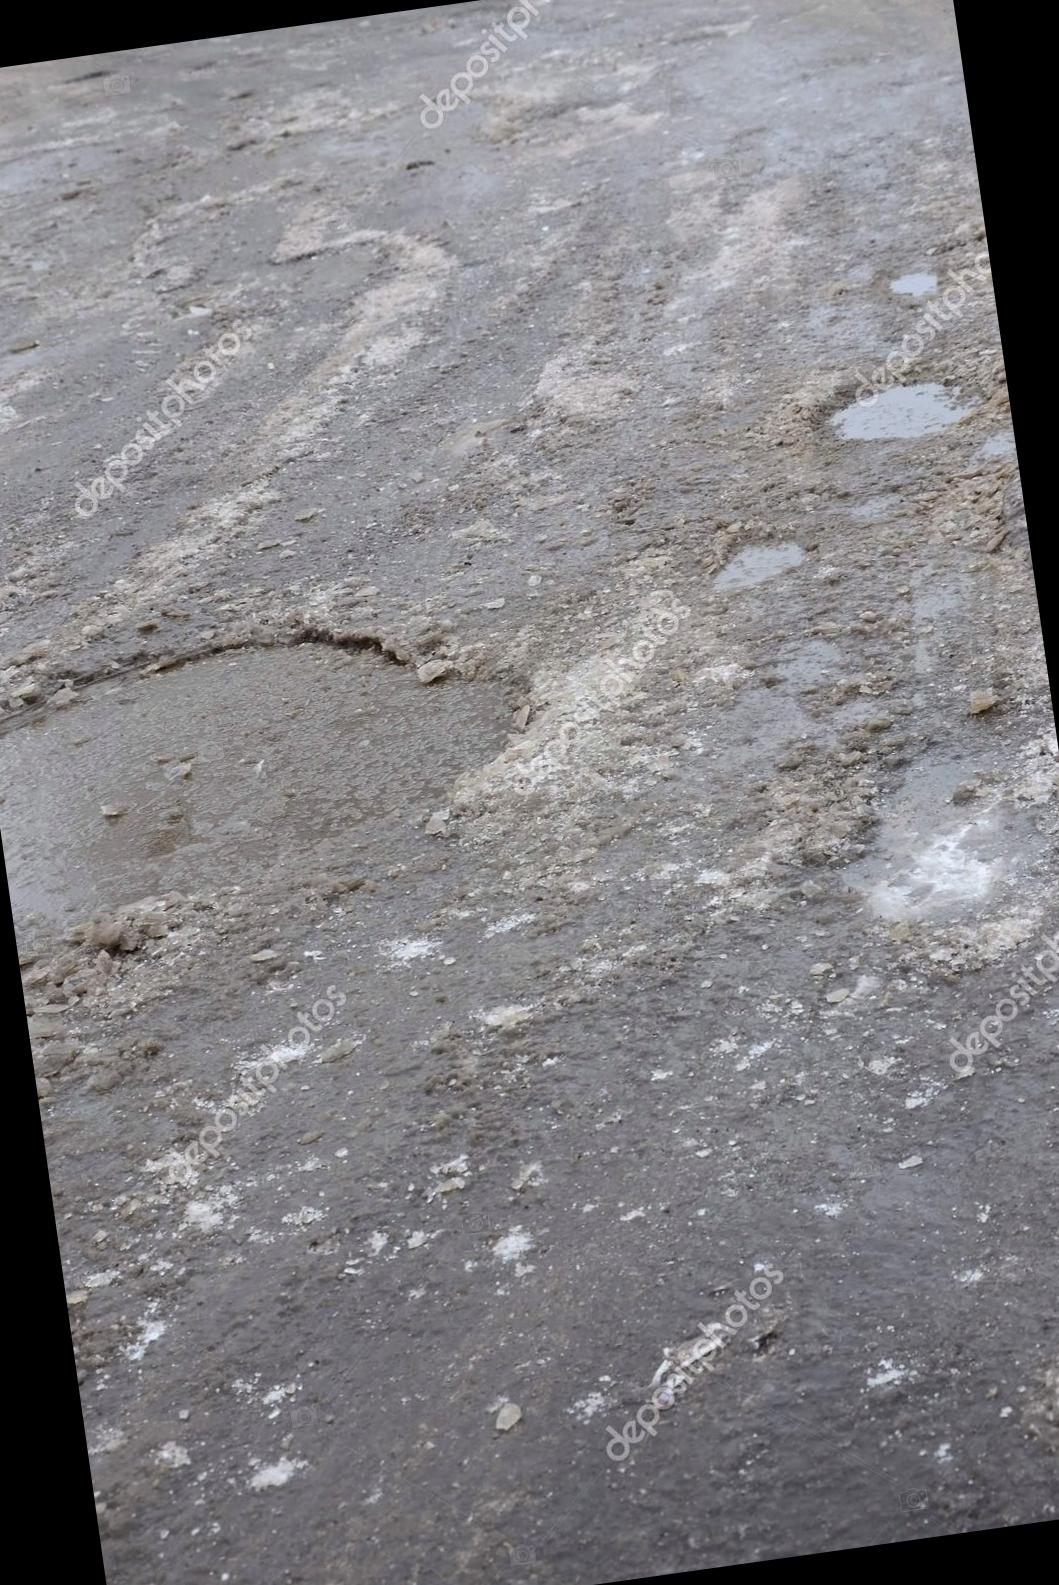pothole: (0, 544, 618, 1012), (688, 665, 1059, 1003), (759, 318, 1014, 492), (642, 473, 859, 635), (856, 235, 970, 337)
